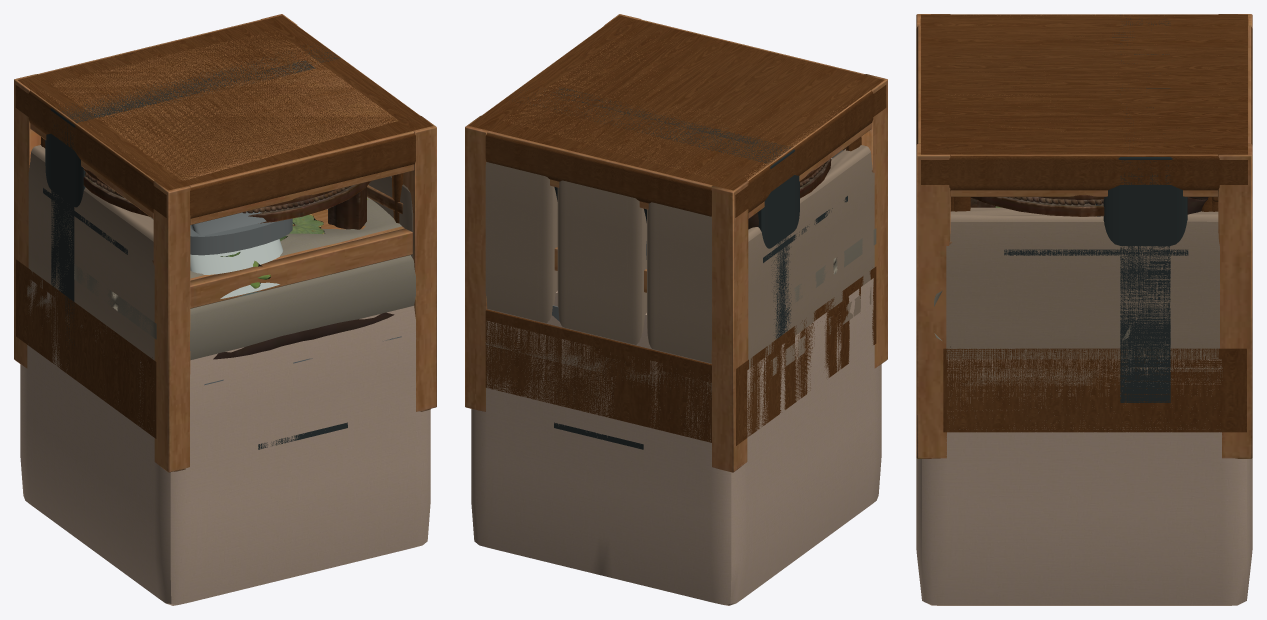
Rendered from furniture.glb.
The picture shows the model from 3 angles, left to right: view 1: azimuth 30°, elevation 25°; view 2: azimuth 150°, elevation 25°; view 3: azimuth 270°, elevation 25°; orthographic projection. The views are drawn at different scales.
Visible parts, largest first — view 1: cushion, side_table_01, coffee-source, desk-source, sofa, bed-double-source, media-source, tv-source, bed-single-source, dining-source, bar_chair_round_01, faucet-source (+3 smaller); view 2: cushion, coffee-source, bed-double-source, media-source, desk-source, side_table_01, sofa, bed-single-source, dining-source, tv-source, bar_chair_round_01; view 3: cushion, coffee-source, sofa, dining-source, media-source, side_table_01, tv-source, desk-source, bar_chair_round_01, office-chair-source.
Boxes of the visible parts, box(x1,y1,x2,y2) form: cushion: box(20, 280, 430, 605); side_table_01: box(14, 14, 436, 472); coffee-source: box(15, 15, 431, 223); desk-source: box(16, 16, 432, 200); sofa: box(27, 145, 413, 360); bed-double-source: box(74, 197, 415, 360); media-source: box(16, 60, 401, 438); tv-source: box(45, 44, 347, 449); bed-single-source: box(190, 206, 409, 358); dining-source: box(15, 15, 433, 200); bar_chair_round_01: box(83, 41, 371, 229); faucet-source: box(190, 211, 292, 255); cushion: box(471, 278, 881, 605); coffee-source: box(469, 15, 886, 217); bed-double-source: box(485, 162, 876, 363); media-source: box(485, 87, 876, 445); desk-source: box(469, 16, 885, 202); side_table_01: box(465, 14, 887, 472); sofa: box(485, 145, 874, 398); bed-single-source: box(485, 162, 711, 362); dining-source: box(468, 15, 886, 200); tv-source: box(515, 86, 799, 449); bar_chair_round_01: box(570, 147, 831, 198); cushion: box(916, 359, 1252, 605); coffee-source: box(921, 15, 1247, 191); sofa: box(946, 207, 1222, 385); dining-source: box(916, 14, 1252, 211); media-source: box(943, 32, 1246, 432); side_table_01: box(916, 14, 1252, 458); tv-source: box(1096, 18, 1187, 402); desk-source: box(922, 14, 1246, 211); bar_chair_round_01: box(970, 181, 1104, 216); office-chair-source: box(1004, 249, 1188, 255).
Size of the model in its own units: 1 by 1.5 by 1.
Materials: 18 (13 with a texture image).
